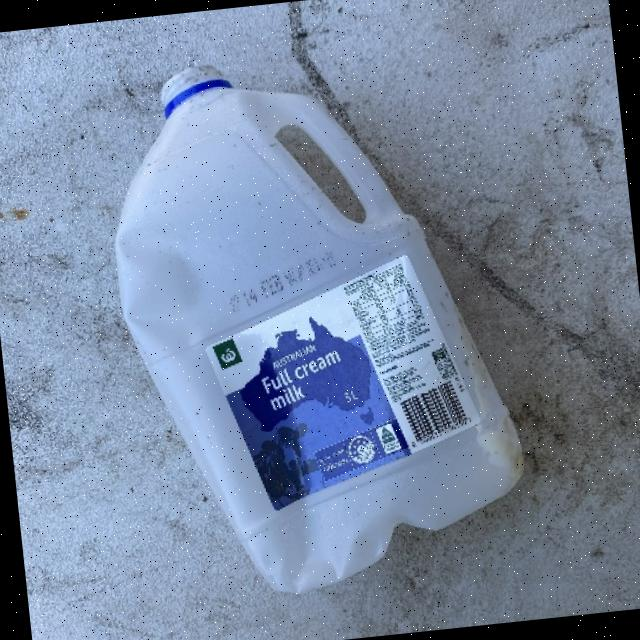plastic: (94, 33, 535, 609)
